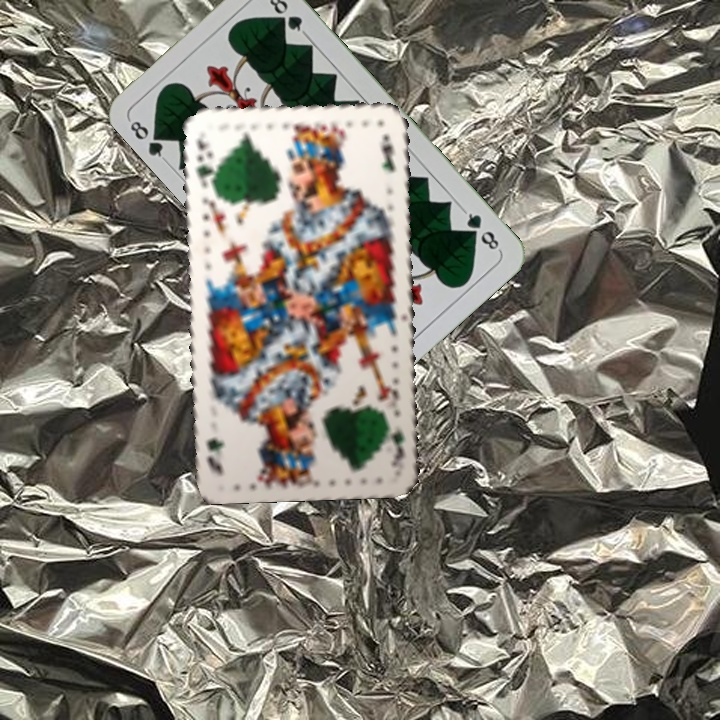G8: (124, 116, 170, 164), (459, 206, 503, 254)
GK: (192, 131, 217, 188), (385, 415, 408, 468)
